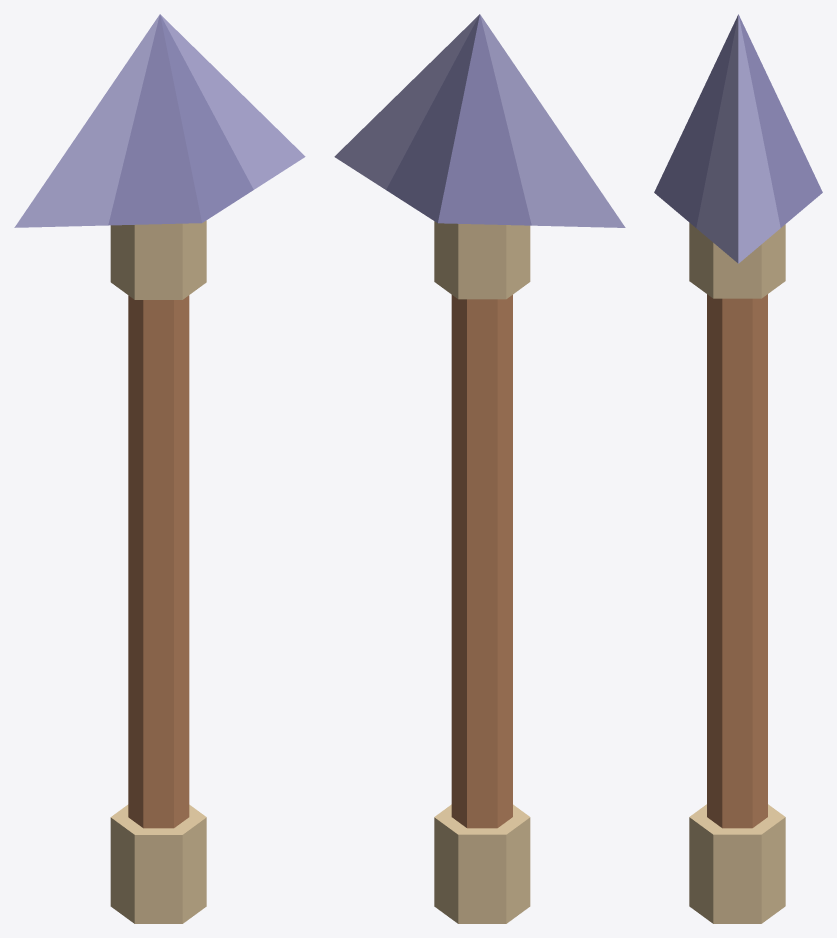
The model's file is Spear.fbx.
3 renders of one model, left to right at view 1: azimuth 30°, elevation 25°; view 2: azimuth 150°, elevation 25°; view 3: azimuth 270°, elevation 25°, orthographic.
Visible parts, largest first — view 1: mergedBlocks; view 2: mergedBlocks; view 3: mergedBlocks.
Boxes of the visible parts, x1,y1,x2,y2 form: mergedBlocks: (14, 14, 305, 923); mergedBlocks: (334, 14, 625, 923); mergedBlocks: (654, 14, 822, 923).
Size of the model in its own units: 7.69 by 22.5 by 3.86.
